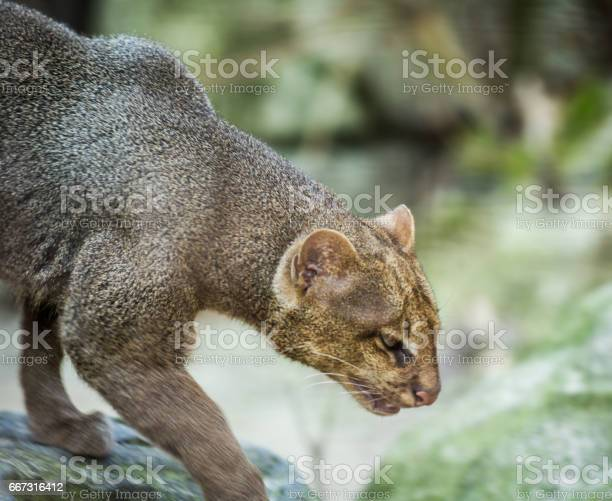Jaguarundi: (9, 3, 446, 490)
